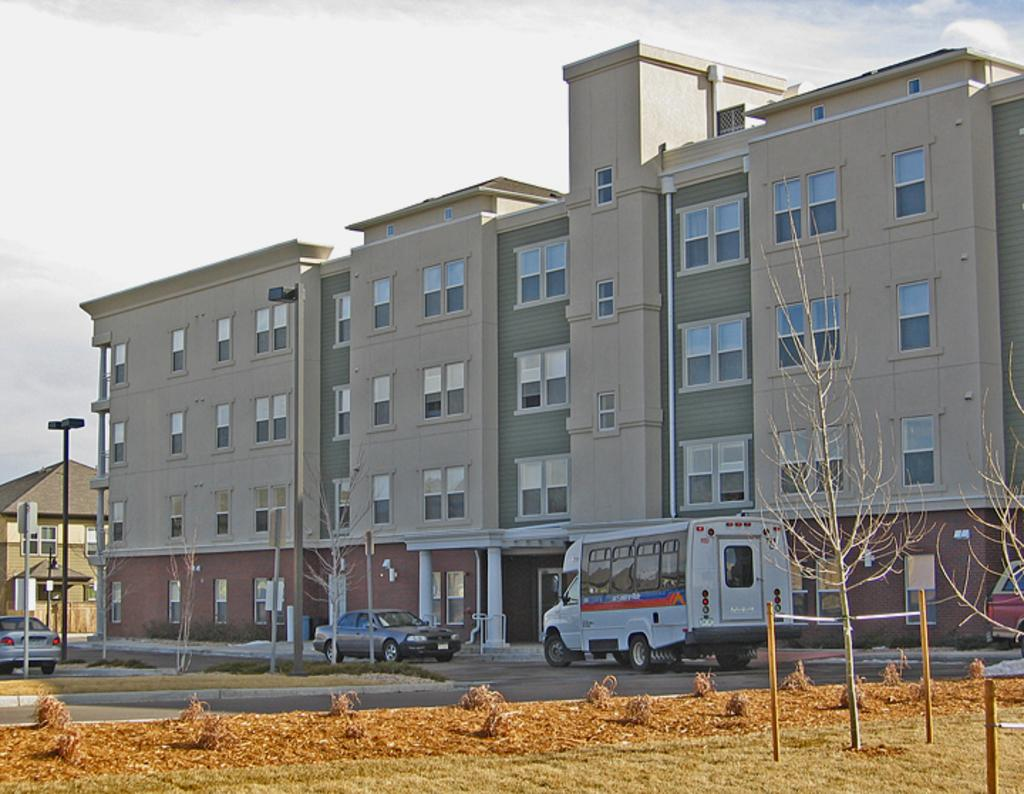vehicle: (542, 517, 801, 674), (314, 609, 460, 662), (0, 614, 62, 676)
